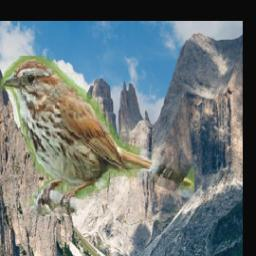Sparrow: (1, 57, 194, 217)
